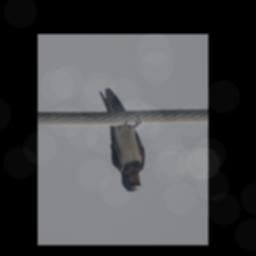Swallow: (99, 87, 145, 192)
